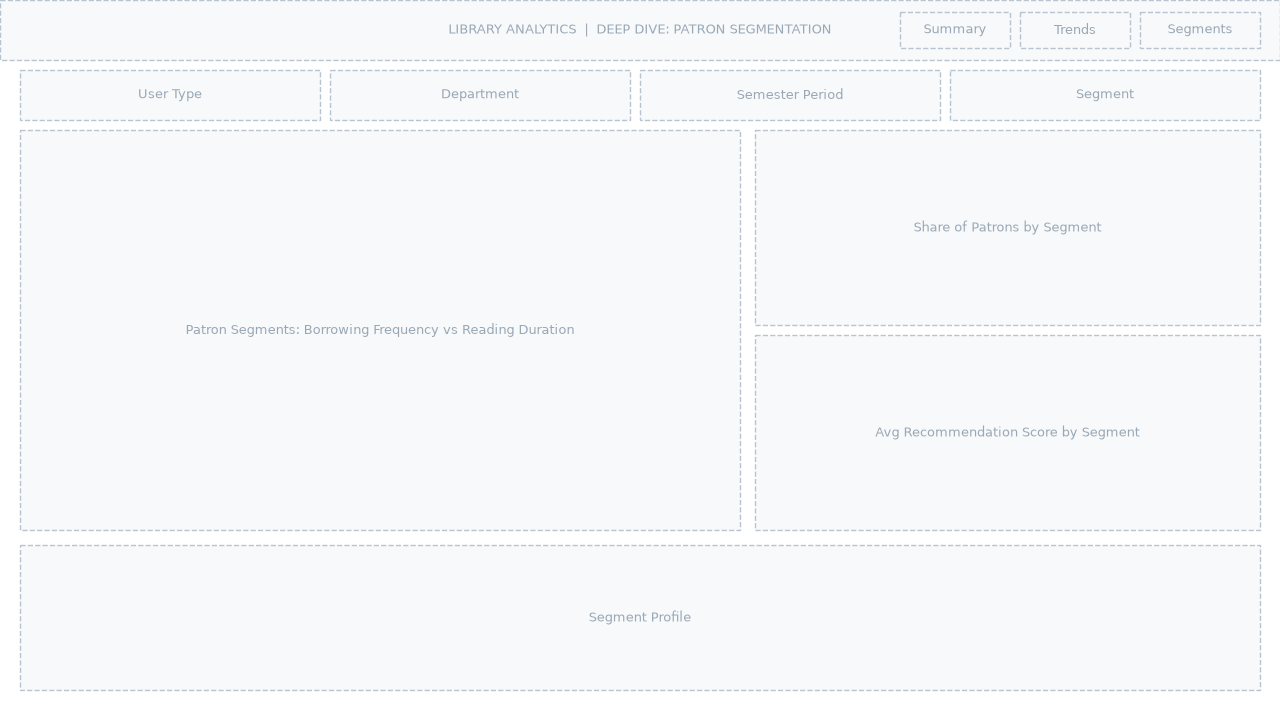

What the dashboard file says about the page in this screenshot:
{"tool":"powerbi","page":{"name":"Segmentation","canvas":[1280,720],"ordinal":2},"visuals":[{"type":"slicer","fields":{"Values":["Library.User_Type"]},"box":[20,70,300,60],"z":0},{"type":"slicer","fields":{"Values":["Library.Department"]},"box":[330,70,300,60],"z":1000},{"type":"slicer","fields":{"Values":["Library.Semester_Period"]},"box":[640,70,300,60],"z":2000},{"type":"slicer","fields":{"Values":["Library.Segment"]},"box":[950,70,300,60],"z":3000},{"type":"shape","box":[0,0,1280,60],"z":4000},{"type":"textbox","box":[20,2.9,860,54],"z":5000},{"type":"scatterChart","title":"Patron Segments: Borrowing Frequency vs Reading Duration","fields":{"Category":["Library.User_ID"],"Series":["Library.Segment"],"X":["Sum(Library.Borrowing_Frequency)"],"Y":["Sum(Library.Reading_Duration_Minutes)"]},"box":[20,130,720,400],"z":6000},{"type":"donutChart","title":"Share of Patrons by Segment","fields":{"Category":["Library.Segment"],"Y":["Library.Total Patrons"]},"box":[755,130,505,170],"z":7000},{"type":"clusteredBarChart","title":"Avg Recommendation Score by Segment","fields":{"Category":["Library.Segment"],"Y":["Library.Avg Recommendation Score"]},"box":[755.7,310,504.3,220],"z":8000},{"type":"tableEx","fields":{"Values":["Library.Segment","Library.Total Patrons","Avg(Library.Borrowing_Frequency)","Avg(Library.Reading_Duration_Minutes)","Library.Avg Recommendation Score","Library.Cold-Start Share","Library.Irregular Borrowing Rate"]},"box":[20,545,1240,145],"z":9000},{"type":"pageNavigator","box":[900,12,360,36],"z":9001}]}

Visuals, with their boxes in screenshot pixels (x1, y1, x2, y2), scaled from the page's 1280x720 canvas onto the 1280x720 screenshot:
slicer - Library.User_Type: 20, 70, 320, 130
slicer - Library.Department: 330, 70, 630, 130
slicer - Library.Semester_Period: 640, 70, 940, 130
slicer - Library.Segment: 950, 70, 1250, 130
shape: 0, 0, 1279, 60
textbox: 20, 3, 880, 57
"Patron Segments: Borrowing Frequency vs Reading Duration" scatterChart: 20, 130, 740, 530
"Share of Patrons by Segment" donutChart: 755, 130, 1260, 300
"Avg Recommendation Score by Segment" clusteredBarChart: 756, 310, 1260, 530
tableEx - Library.Segment x Library.Total Patrons: 20, 545, 1260, 690
pageNavigator: 900, 12, 1260, 48
